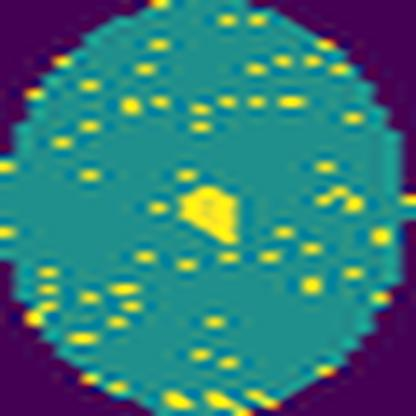Center: (174, 182, 259, 250)
